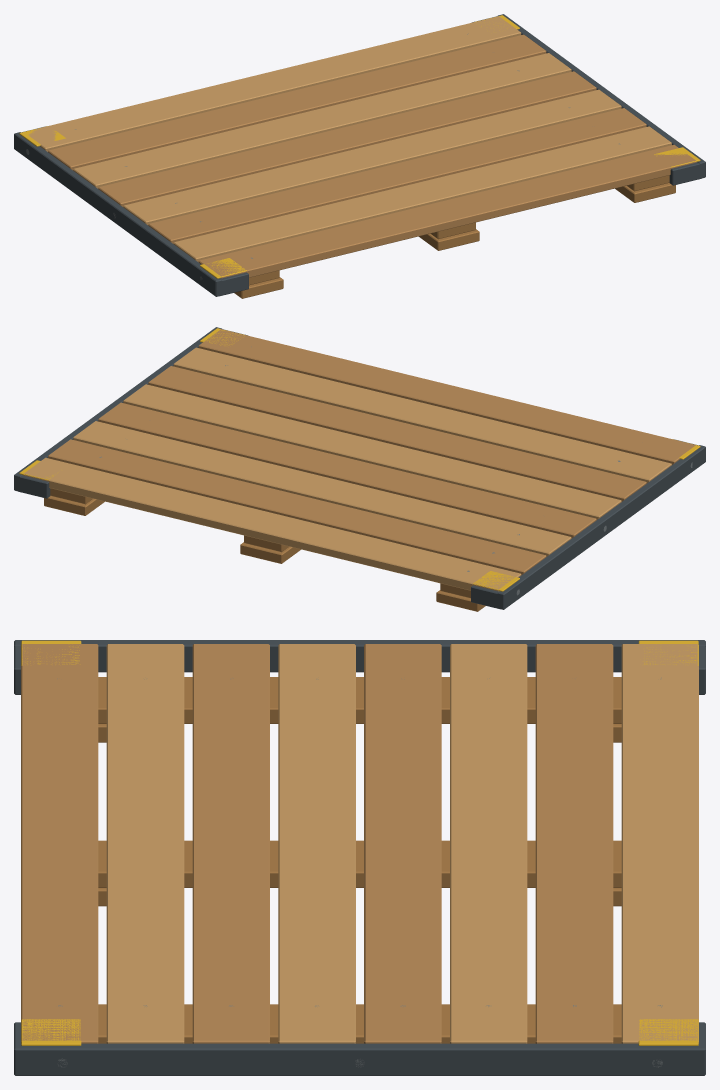
Rendered from buffer-pallet.glb.
3 views of the same model, one above another, from view 1: azimuth 30°, elevation 25°; view 2: azimuth 150°, elevation 25°; view 3: azimuth 270°, elevation 25° (orthographic). The views are drawn at different scales.
Parts seen in each view (by area): view 1: buffer-pallet__material_01, buffer-pallet__material_00, buffer-pallet__material_02, buffer-pallet__material_04, buffer-pallet__material_03; view 2: buffer-pallet__material_00, buffer-pallet__material_01, buffer-pallet__material_02, buffer-pallet__material_04, buffer-pallet__material_03; view 3: buffer-pallet__material_00, buffer-pallet__material_01, buffer-pallet__material_02, buffer-pallet__material_04, buffer-pallet__material_03.
Boxes of the visible parts, x1,y1,x2,y2 form: buffer-pallet__material_01: (48,34,696,278); buffer-pallet__material_00: (28,16,671,262); buffer-pallet__material_02: (14,14,705,296); buffer-pallet__material_04: (234,175,675,298); buffer-pallet__material_03: (19,15,700,278); buffer-pallet__material_00: (23,347,671,591); buffer-pallet__material_01: (48,329,695,575); buffer-pallet__material_02: (14,327,705,609); buffer-pallet__material_04: (44,488,485,611); buffer-pallet__material_03: (19,328,700,591); buffer-pallet__material_00: (106,644,698,1043); buffer-pallet__material_01: (21,644,613,1043); buffer-pallet__material_02: (14,640,705,1075); buffer-pallet__material_04: (98,677,621,1043); buffer-pallet__material_03: (21,640,698,1045).
Bounding box in the file's own units: 1.4 × 0.075 × 1.
